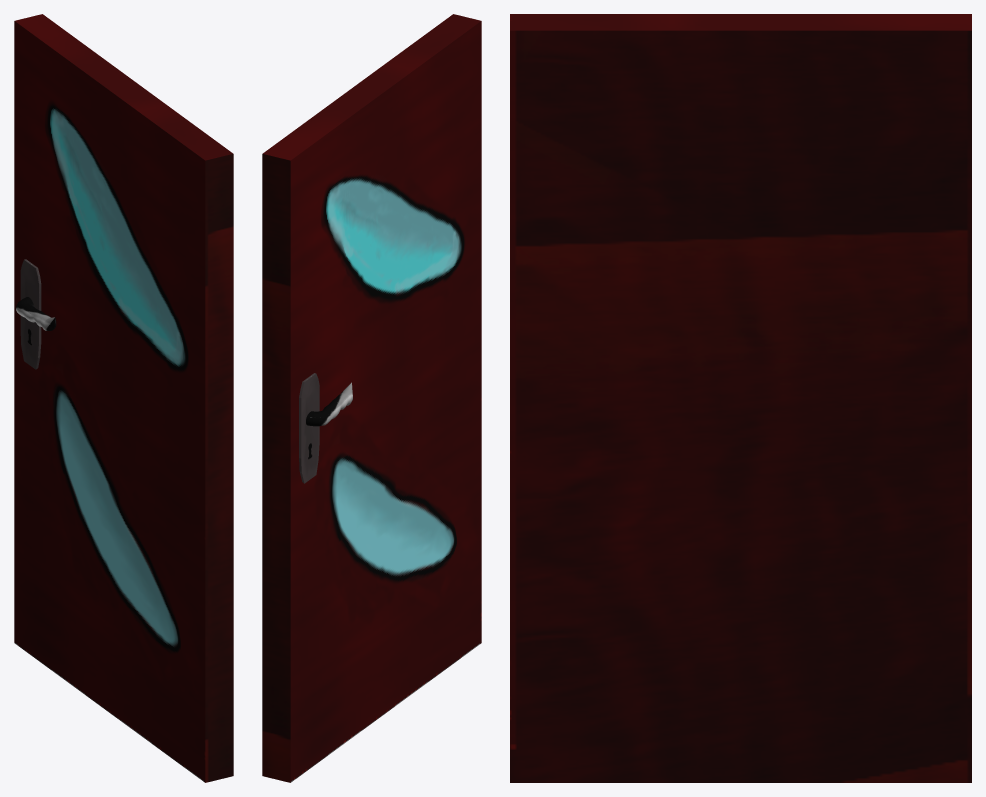
File: DrzwiEcapeRoom.fbx
The picture shows the model from 3 angles, left to right: view 1: azimuth 30°, elevation 25°; view 2: azimuth 150°, elevation 25°; view 3: azimuth 270°, elevation 25°; orthographic projection. The views are drawn at different scales.
Parts seen in each view (by area): view 1: Brama, Zamek, Raczka; view 2: Brama, Zamek, Raczka; view 3: Brama.
Boxes of the visible parts, <box> form: Brama: <box>14,14,233,782</box>; Zamek: <box>20,259,41,369</box>; Raczka: <box>16,297,56,330</box>; Brama: <box>262,14,481,782</box>; Zamek: <box>299,373,319,483</box>; Raczka: <box>306,382,352,426</box>; Brama: <box>510,14,971,782</box>.
Bounding box in the file's own units: 27.52 × 360 × 200.
